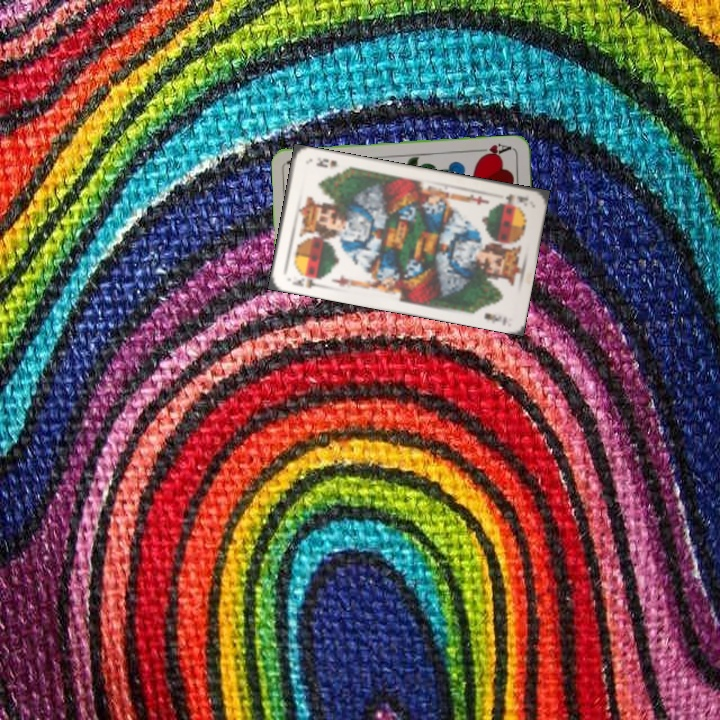HA: (474, 139, 514, 159)
SK: (288, 270, 324, 290), (495, 190, 531, 206)
